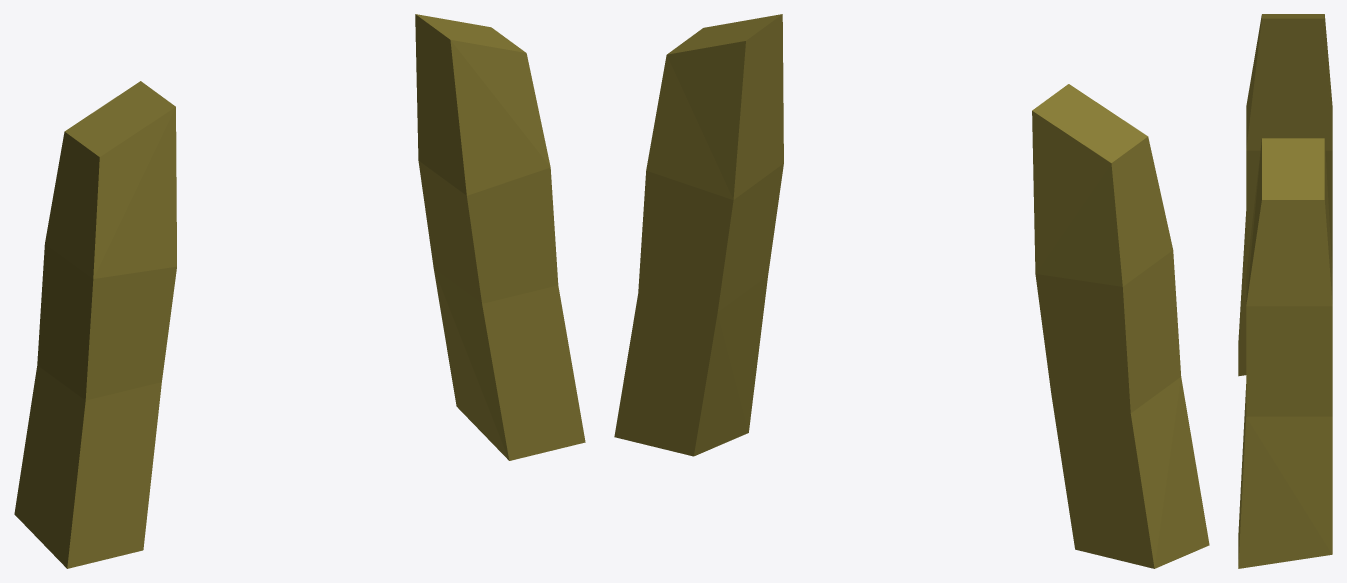
File: player_male_arms_30_0.obj
3 renders of one model, left to right at view 1: azimuth 30°, elevation 25°; view 2: azimuth 150°, elevation 25°; view 3: azimuth 270°, elevation 25°, orthographic. The views are drawn at different scales.
Bounding box in the file's own units: 0.5312 × 0.4141 × 0.0938.
